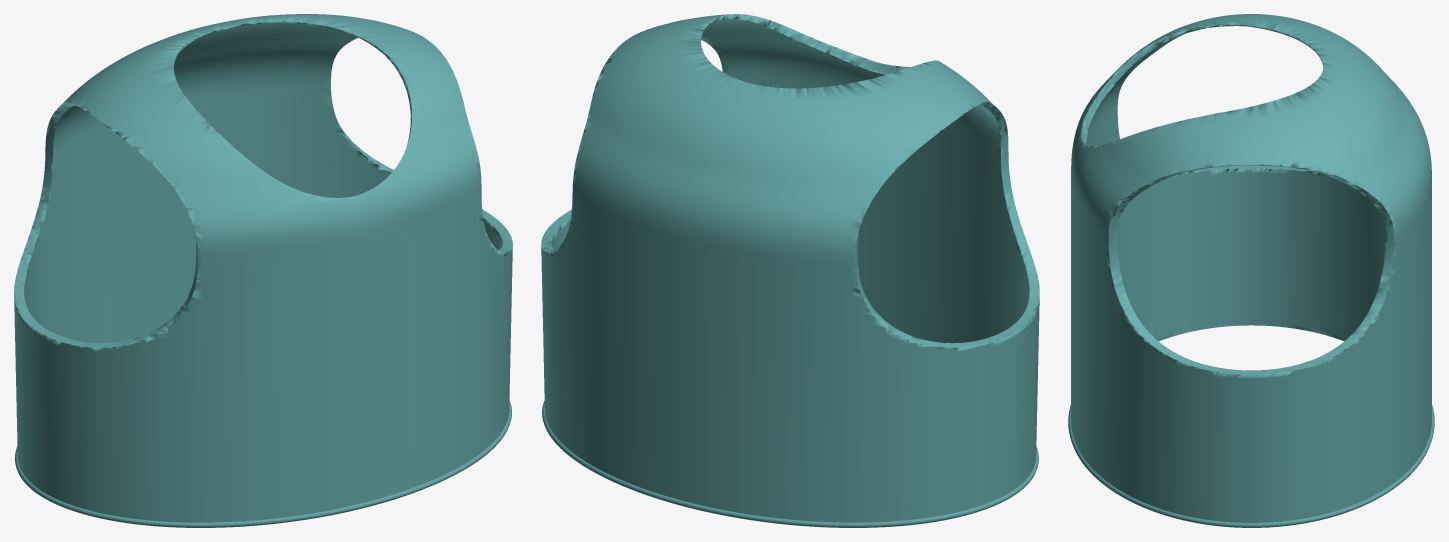
File: Feminine-tank-top.glb
The picture shows the model from 3 angles, left to right: view 1: azimuth 30°, elevation 25°; view 2: azimuth 150°, elevation 25°; view 3: azimuth 270°, elevation 25°; orthographic projection. The views are drawn at different scales.
Visible parts, largest first — view 1: Clothing / tank, Shirt / hem export; view 2: Clothing / tank, Shirt / hem export; view 3: Clothing / tank, Shirt / hem export.
Boxes of the visible parts, box(x1,y1,x2,y2) form: Clothing / tank: box(14, 14, 512, 522); Shirt / hem export: box(15, 400, 511, 527); Clothing / tank: box(541, 14, 1039, 522); Shirt / hem export: box(542, 401, 1038, 527); Clothing / tank: box(1071, 14, 1431, 522); Shirt / hem export: box(1068, 405, 1434, 527).
Size of the model in its own units: 0.7265 by 0.5798 by 0.536.
